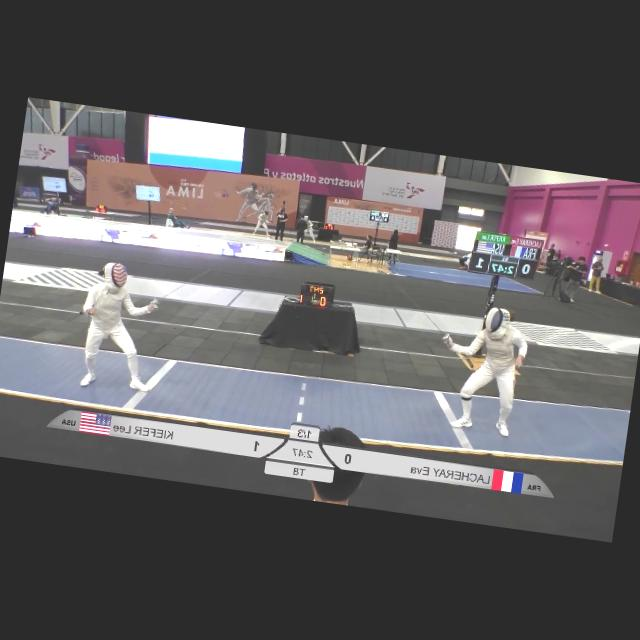blade: (375, 276, 461, 347), (150, 253, 219, 315)
